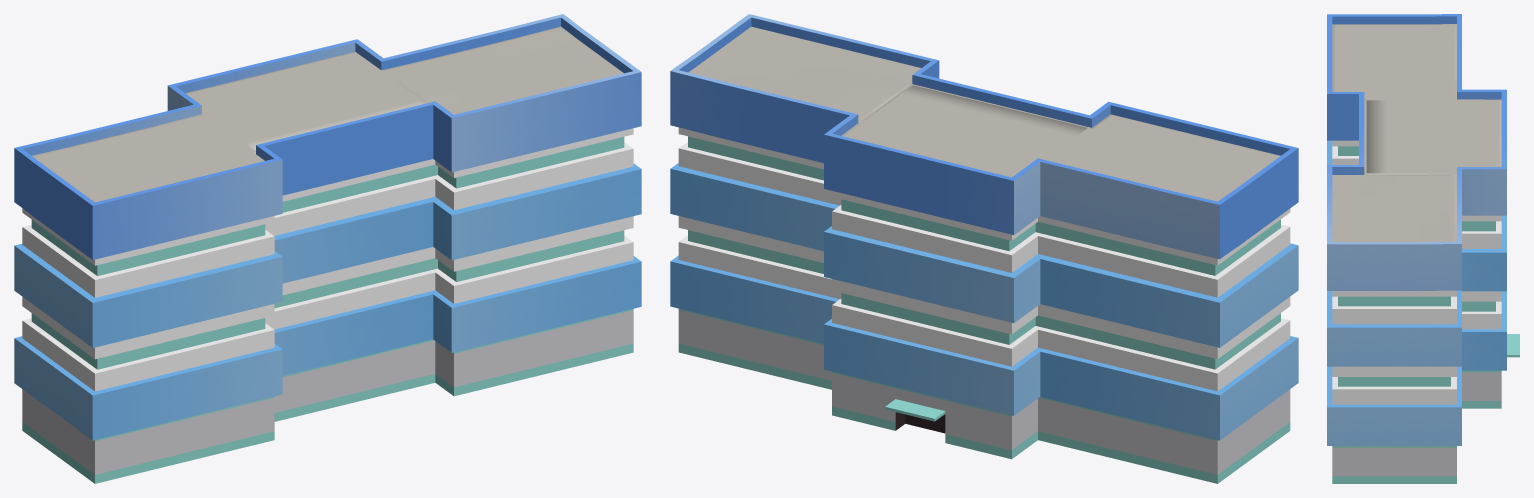
The model's file is LongBuilding1.fbx.
3 views of the same model, side by side, from view 1: azimuth 30°, elevation 25°; view 2: azimuth 150°, elevation 25°; view 3: azimuth 270°, elevation 25° (orthographic). The views are drawn at different scales.
Parts seen in each view (by area): view 1: Box036, Box035, Box031, Box029, Box032, Box037; view 2: Box036, Box035, Box031, Box032, Box029, Box037; view 3: Box036, Box035, Box031, Box029, Box032, Box037.
Part boxes in pixels (x1=…): Box036: x1=14, y1=14, x2=641, y2=259; Box035: x1=14, y1=163, x2=641, y2=347; Box031: x1=14, y1=256, x2=641, y2=440; Box029: x1=22, y1=308, x2=633, y2=483; Box032: x1=22, y1=216, x2=633, y2=391; Box037: x1=22, y1=128, x2=633, y2=297; Box036: x1=670, y1=14, x2=1298, y2=259; Box035: x1=670, y1=163, x2=1298, y2=347; Box031: x1=670, y1=255, x2=1298, y2=440; Box032: x1=678, y1=216, x2=1290, y2=391; Box029: x1=678, y1=308, x2=1290, y2=483; Box037: x1=678, y1=127, x2=1290, y2=297; Box036: x1=1327, y1=14, x2=1506, y2=290; Box035: x1=1327, y1=140, x2=1506, y2=366; Box031: x1=1327, y1=291, x2=1506, y2=445; Box029: x1=1332, y1=334, x2=1519, y2=483; Box032: x1=1332, y1=291, x2=1501, y2=404; Box037: x1=1332, y1=140, x2=1501, y2=324.
Bounding box in the file's own units: 1204 × 591 × 426.
